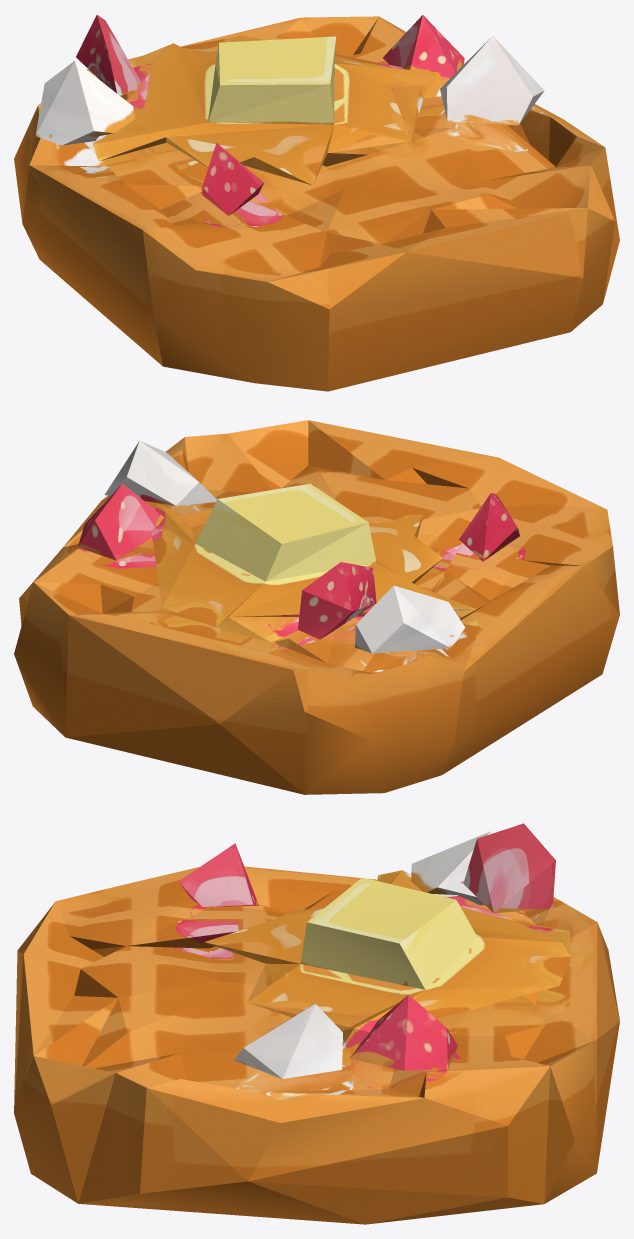
File: source.fbx
The picture shows the model from 3 angles, top to bottom: view 1: azimuth 30°, elevation 25°; view 2: azimuth 150°, elevation 25°; view 3: azimuth 270°, elevation 25°; orthographic projection. The views are drawn at different scales.
Visible parts, largest first — view 1: output_unwrapped; view 2: output_unwrapped; view 3: output_unwrapped.
Part boxes in pixels (box(x1,y1,x2,y2)): output_unwrapped: box(14, 15, 619, 391); output_unwrapped: box(14, 420, 619, 794); output_unwrapped: box(14, 823, 619, 1224).
Bounding box in the file's own units: 42.19 × 18 × 43.84.
Materials: 1 (1 with a texture image).
